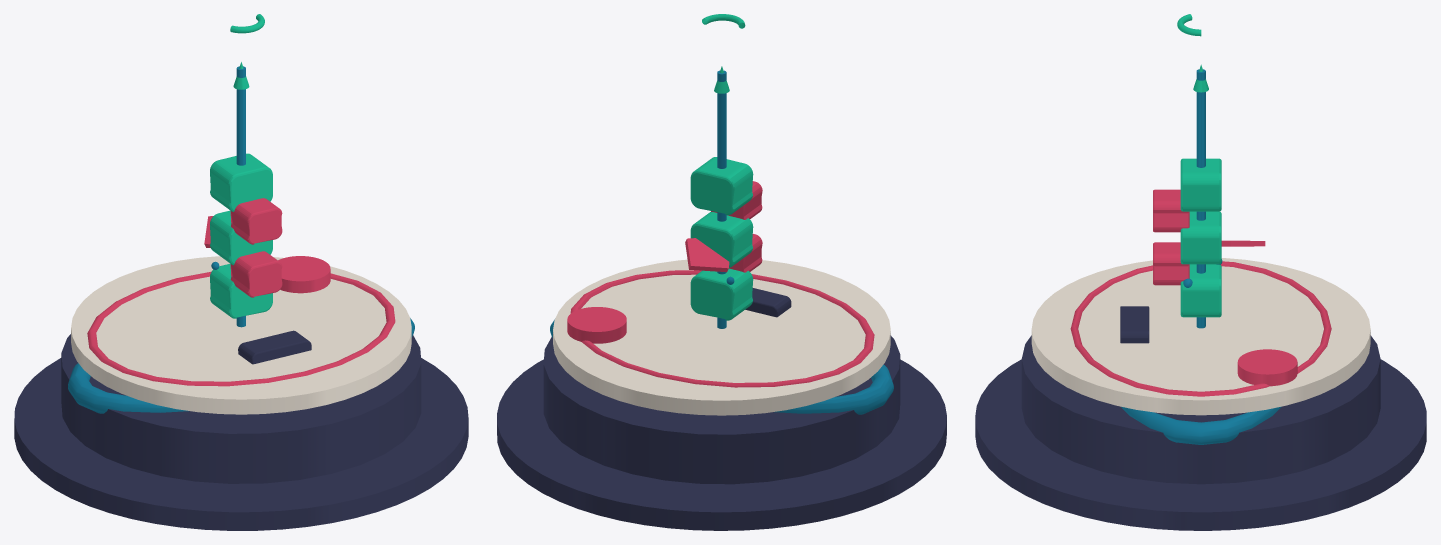
Rendered from 0332_揭秘食物图鉴_胡椒.glb.
The picture shows the model from 3 angles, left to right: view 1: azimuth 30°, elevation 25°; view 2: azimuth 150°, elevation 25°; view 3: azimuth 270°, elevation 25°; orthographic projection.
Parts seen in each view (by area): view 1: card_0332; view 2: card_0332; view 3: card_0332.
Part boxes in pixels (left/top/right/bottom): card_0332: left=14, top=14, right=468, bottom=530; card_0332: left=497, top=14, right=946, bottom=530; card_0332: left=975, top=14, right=1426, bottom=530.
Size of the model in its own units: 0.9874 by 1 by 0.9881.
